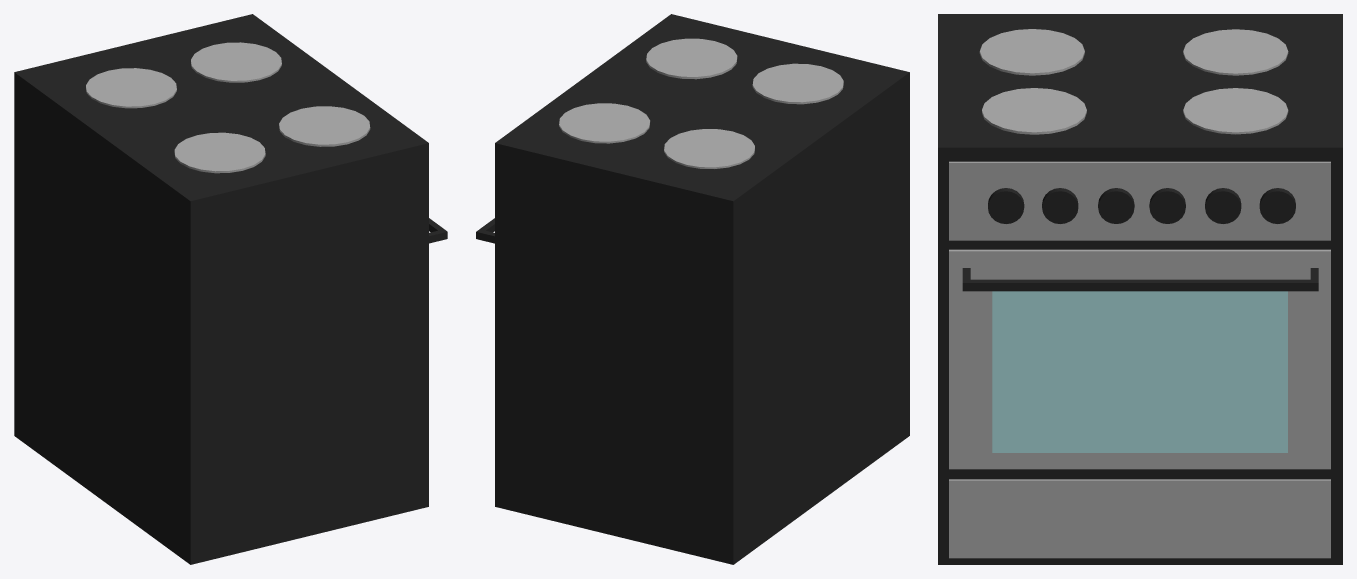
File: Stove_Cat.fbx
The picture shows the model from 3 angles, left to right: view 1: azimuth 30°, elevation 25°; view 2: azimuth 150°, elevation 25°; view 3: azimuth 270°, elevation 25°; orthographic projection. The views are drawn at different scales.
Visible parts, largest first — view 1: pasted__pCube3, pCylinder1, pasted__pasted__pasted__pCylinder1, pasted__pCylinder1, pasted__pasted__pCylinder1; view 2: pasted__pCube3, pCylinder1, pasted__pasted__pasted__pCylinder1, pasted__pCylinder1, pasted__pasted__pCylinder1; view 3: pasted__pCube3, pasted__pasted__pasted__pasted__pasted__pCube2 (×2), pasted__pasted__pasted__pasted__pasted__pasted__pCube2, pasted__pasted__pasted__pasted__pCube2 (×2), pasted__pasted__pCylinder1 (×3), pasted__pasted__pasted__pCylinder1 (×2), pasted__pCylinder1 (×2), pCylinder1, pasted__pasted__pasted__pasted__pasted__pCylinder1, pasted__pasted__pasted__pasted__pCylinder1.
Boxes of the visible parts, bbox=[...] form: pasted__pCube3: bbox=[14, 14, 428, 564]; pCylinder1: bbox=[279, 106, 370, 146]; pasted__pasted__pasted__pCylinder1: bbox=[174, 132, 265, 173]; pasted__pCylinder1: bbox=[191, 42, 281, 82]; pasted__pasted__pCylinder1: bbox=[86, 68, 176, 108]; pasted__pCube3: bbox=[495, 14, 909, 564]; pCylinder1: bbox=[646, 38, 737, 79]; pasted__pasted__pasted__pCylinder1: bbox=[752, 63, 843, 104]; pasted__pCylinder1: bbox=[559, 103, 650, 143]; pasted__pasted__pCylinder1: bbox=[664, 129, 754, 168]; pasted__pCube3: bbox=[938, 14, 1342, 564]; pasted__pasted__pasted__pasted__pasted__pCube2 (×2): bbox=[949, 249, 1330, 558]; pasted__pasted__pasted__pasted__pasted__pasted__pCube2: bbox=[992, 291, 1287, 452]; pasted__pasted__pasted__pasted__pCube2 (×2): bbox=[949, 161, 1330, 291]; pasted__pasted__pCylinder1 (×3): bbox=[988, 29, 1288, 223]; pasted__pasted__pasted__pCylinder1 (×2): bbox=[979, 29, 1185, 223]; pasted__pCylinder1 (×2): bbox=[1042, 88, 1288, 223]; pCylinder1: bbox=[982, 88, 1086, 134]; pasted__pasted__pasted__pasted__pasted__pCylinder1: bbox=[1259, 188, 1295, 223]; pasted__pasted__pasted__pasted__pCylinder1: bbox=[1205, 188, 1241, 223].
Bounding box in the file's own units: 2.29 × 2.98 × 2.61.
